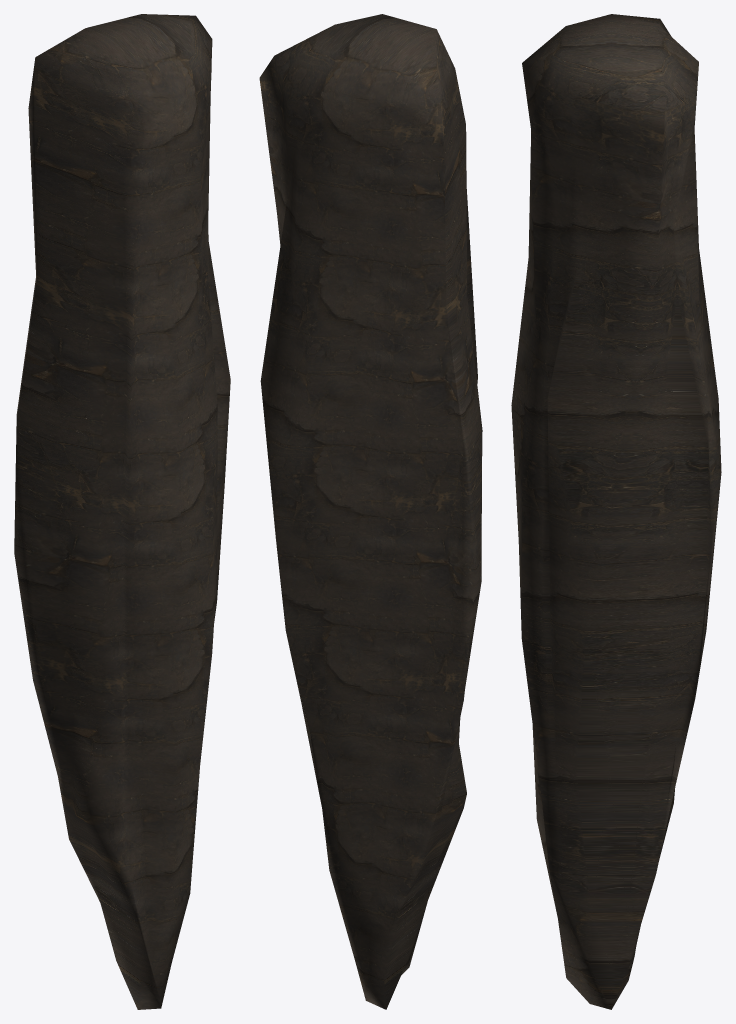
The model's file is cliff_pillar_b_lod2.gltf.
3 renders of one model, left to right at view 1: azimuth 30°, elevation 25°; view 2: azimuth 150°, elevation 25°; view 3: azimuth 270°, elevation 25°, orthographic.
Parts seen in each view (by area): view 1: cliff_pillar_b_LOD2; view 2: cliff_pillar_b_LOD2; view 3: cliff_pillar_b_LOD2.
Boxes of the visible parts, bbox=[...] form: cliff_pillar_b_LOD2: bbox=[14, 14, 230, 1009]; cliff_pillar_b_LOD2: bbox=[259, 14, 482, 1009]; cliff_pillar_b_LOD2: bbox=[511, 14, 721, 1009].
Size of the model in its own units: 9.75 by 44 by 8.6.
1 material, 1 textured.
